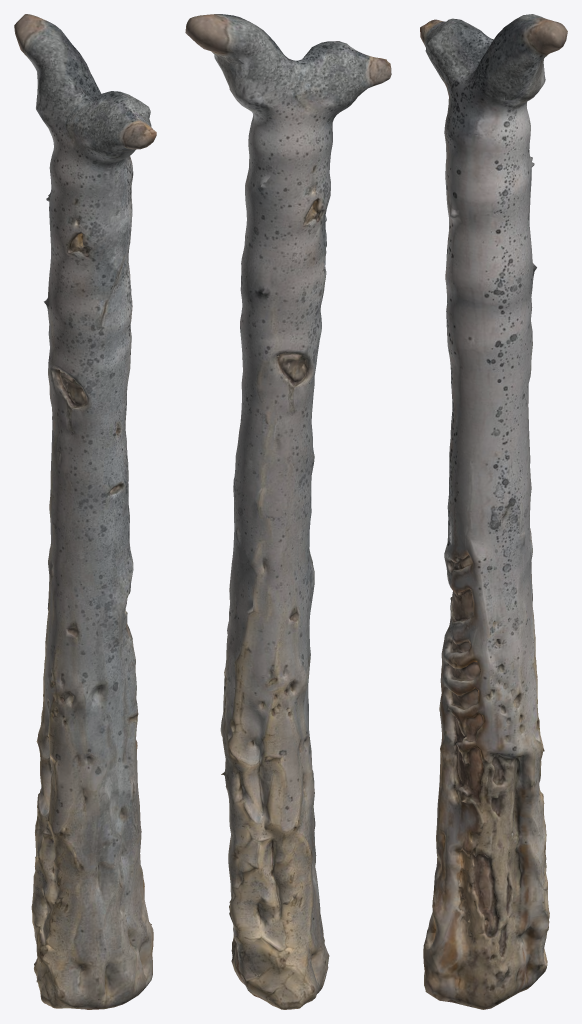
File: TreeDead.glb
3 views of the same model, side by side, from view 1: azimuth 90°, elevation 25°; view 2: azimuth 150°, elevation 25°; view 3: azimuth 270°, elevation 25° (orthographic). The views are drawn at different scales.
Visible parts, largest first — view 1: dead_quiver_trunk_LOD0; view 2: dead_quiver_trunk_LOD0; view 3: dead_quiver_trunk_LOD0.
Part boxes in pixels (x1,y1,x2,y2): dead_quiver_trunk_LOD0: (14, 14, 156, 1009); dead_quiver_trunk_LOD0: (185, 14, 391, 1009); dead_quiver_trunk_LOD0: (420, 14, 567, 1009).
Size of the model in its own units: 0.3065 by 1.99 by 0.2681.
1 material, 1 textured.
